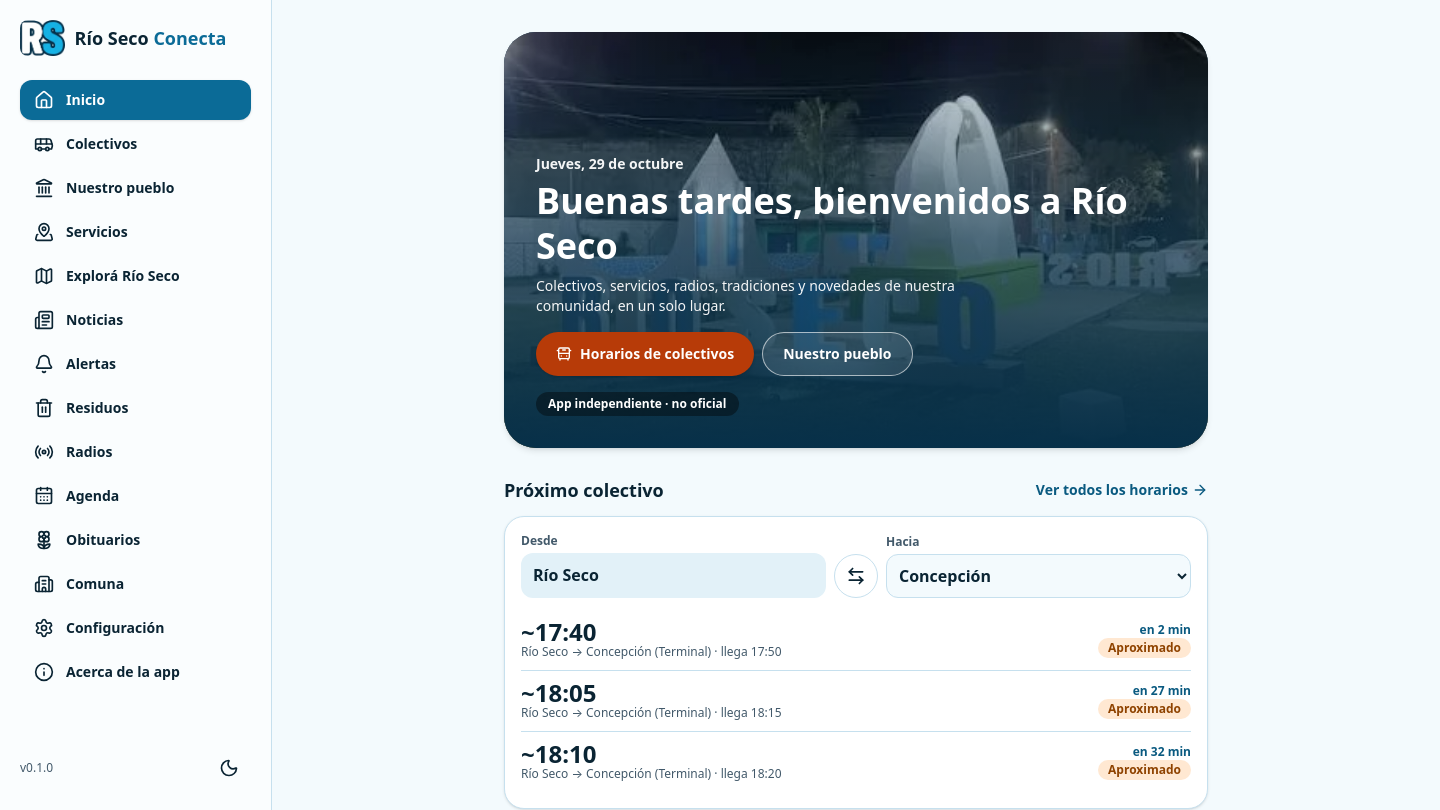
Test: Inicio › el buscador rápido permite invertir el sentido
Expected: the heading "Próximo colectivo" is shown, [504, 476, 664, 504]
Expected: the dropdown named "Hacia" is shown, [886, 554, 1191, 598]
Click the button named "Invertir origen y destino".
click(856, 576)  # box [834, 554, 878, 598]
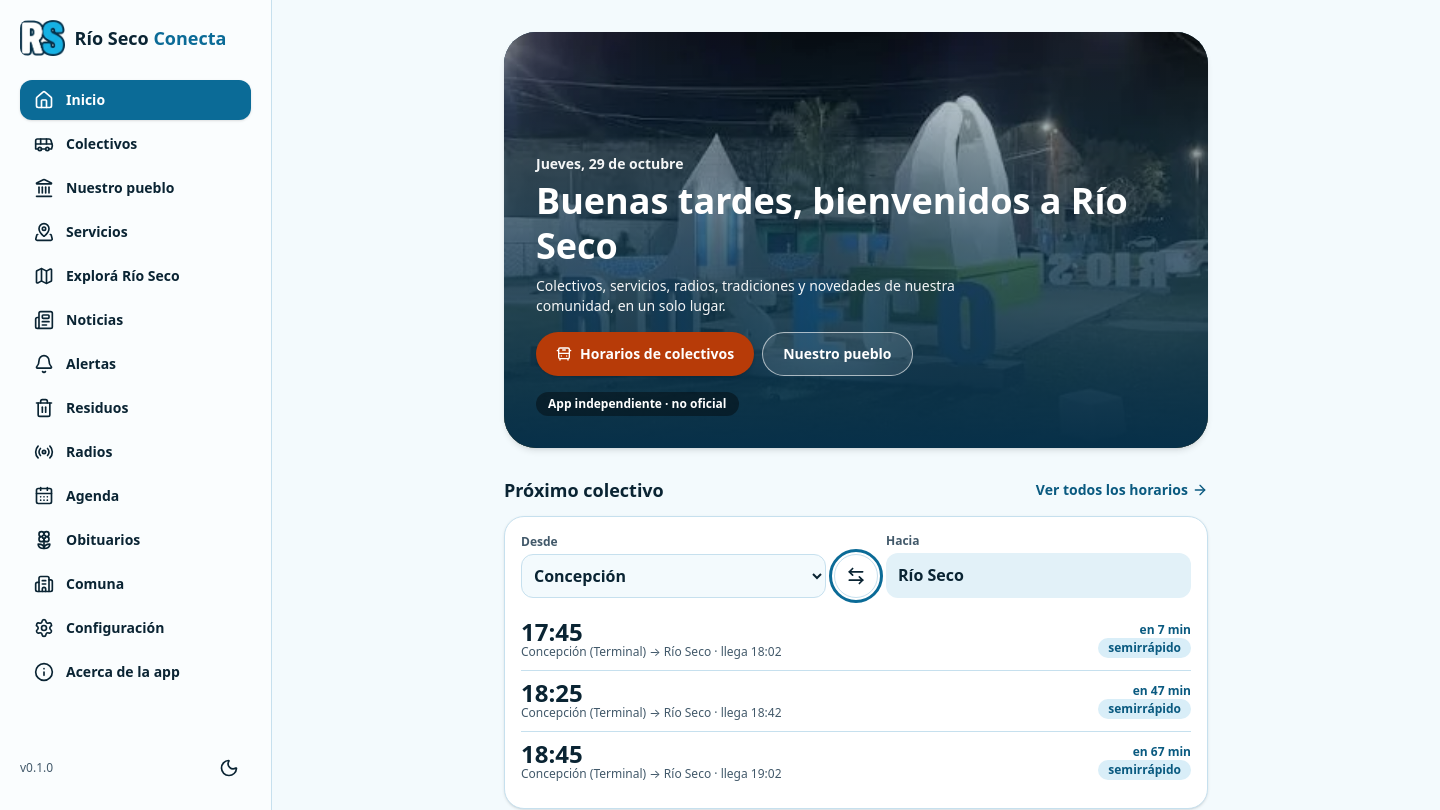
Expected: the dropdown named "Desde" is shown, [521, 554, 826, 598]
